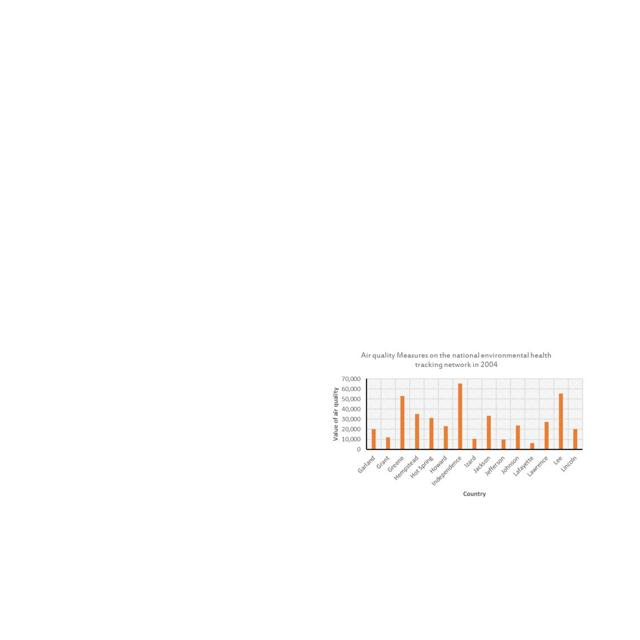Graph: (326, 349, 589, 499)
